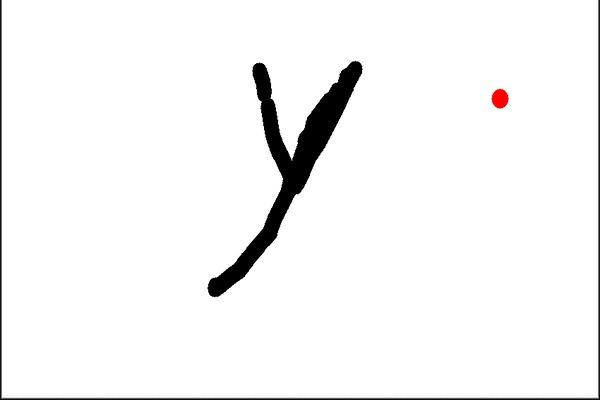Y: (196, 47, 368, 302)
